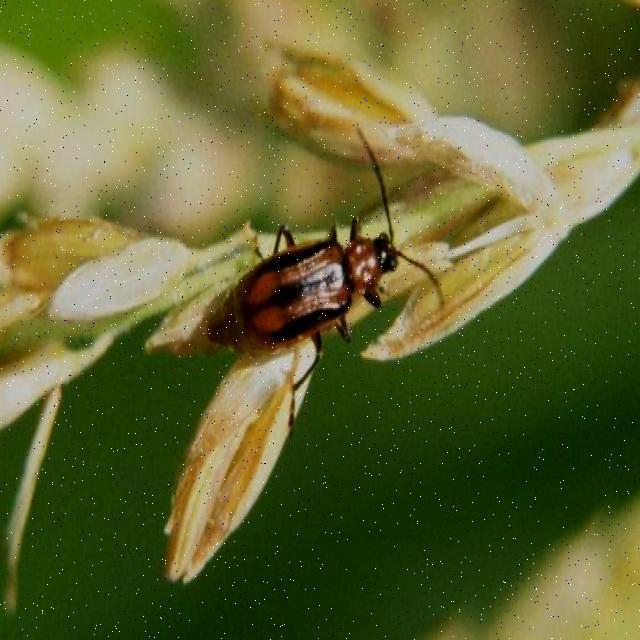trips: (202, 131, 450, 444)
